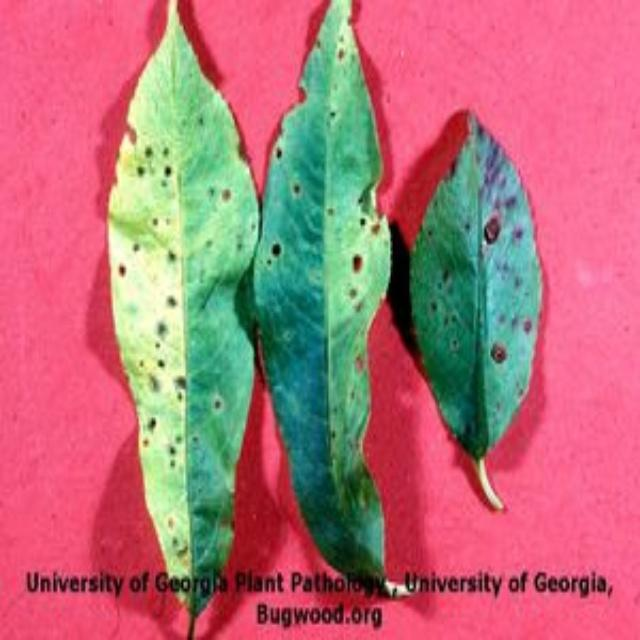leaf_spot: (94, 2, 264, 636), (247, 0, 403, 635), (400, 78, 550, 519)
